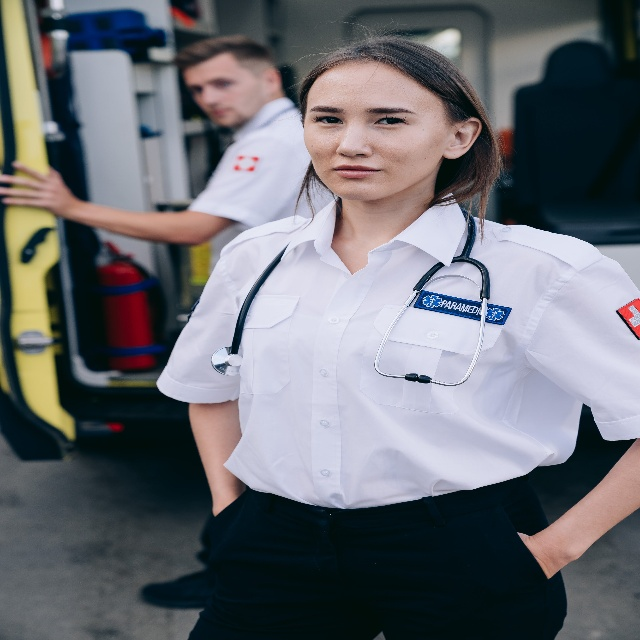Sin_guantes: (0, 156, 73, 222)
